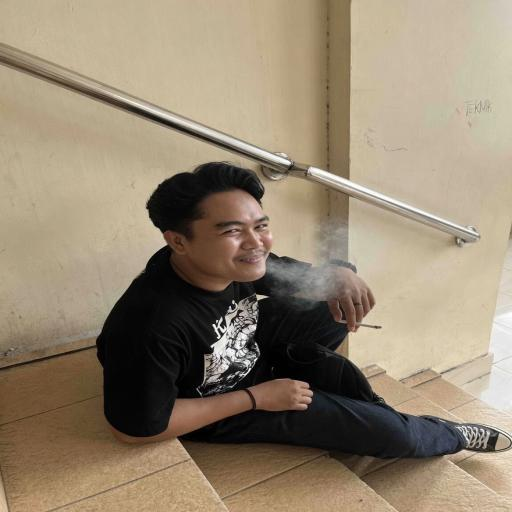pegang rokok: (309, 272, 388, 344)
